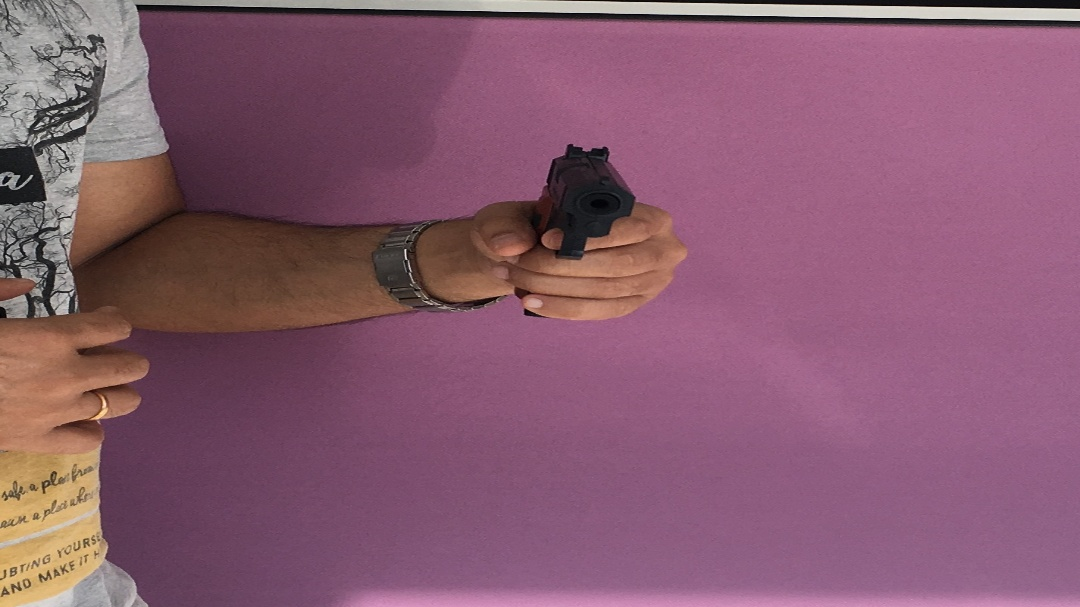gun: (537, 142, 636, 251)
